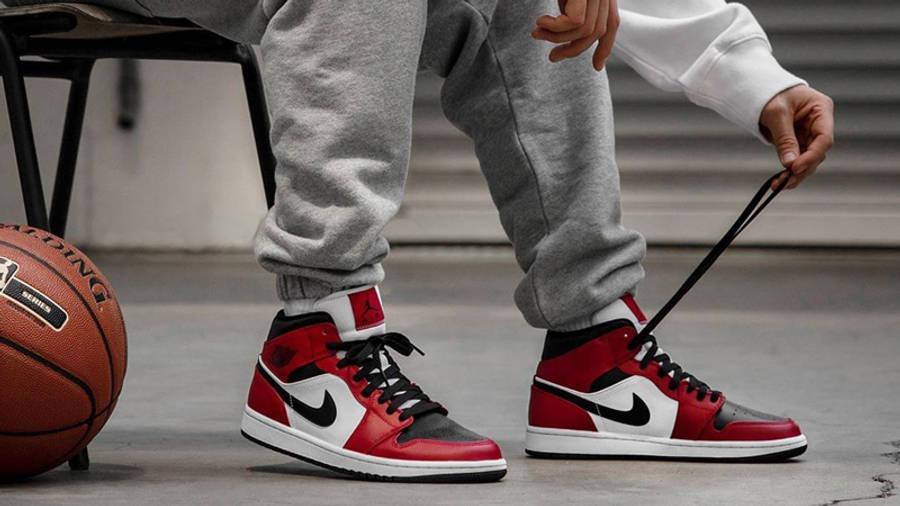Jordan 1: (236, 279, 513, 487), (521, 285, 811, 464)
